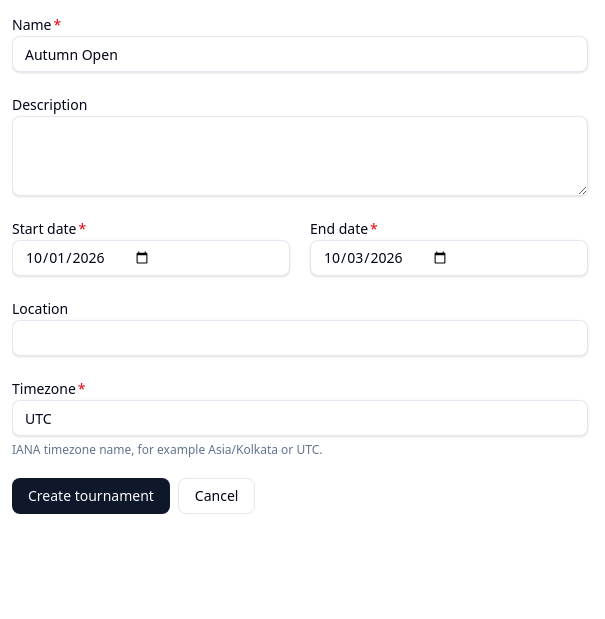
Test: TournamentForm › merges server field errors onto the matching field
Step 1. Click the button "Create tournament" → (91, 496), box [12,478,170,514]
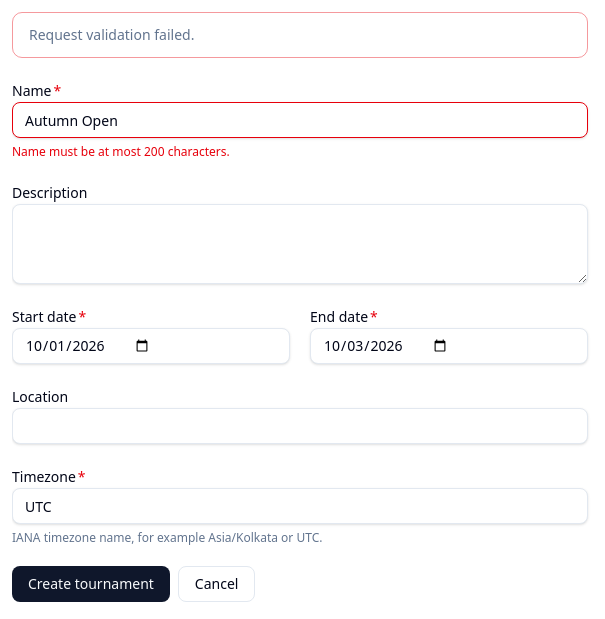
Now the text "Name must be at most 200 characters." is shown, box [12,143,230,160]
